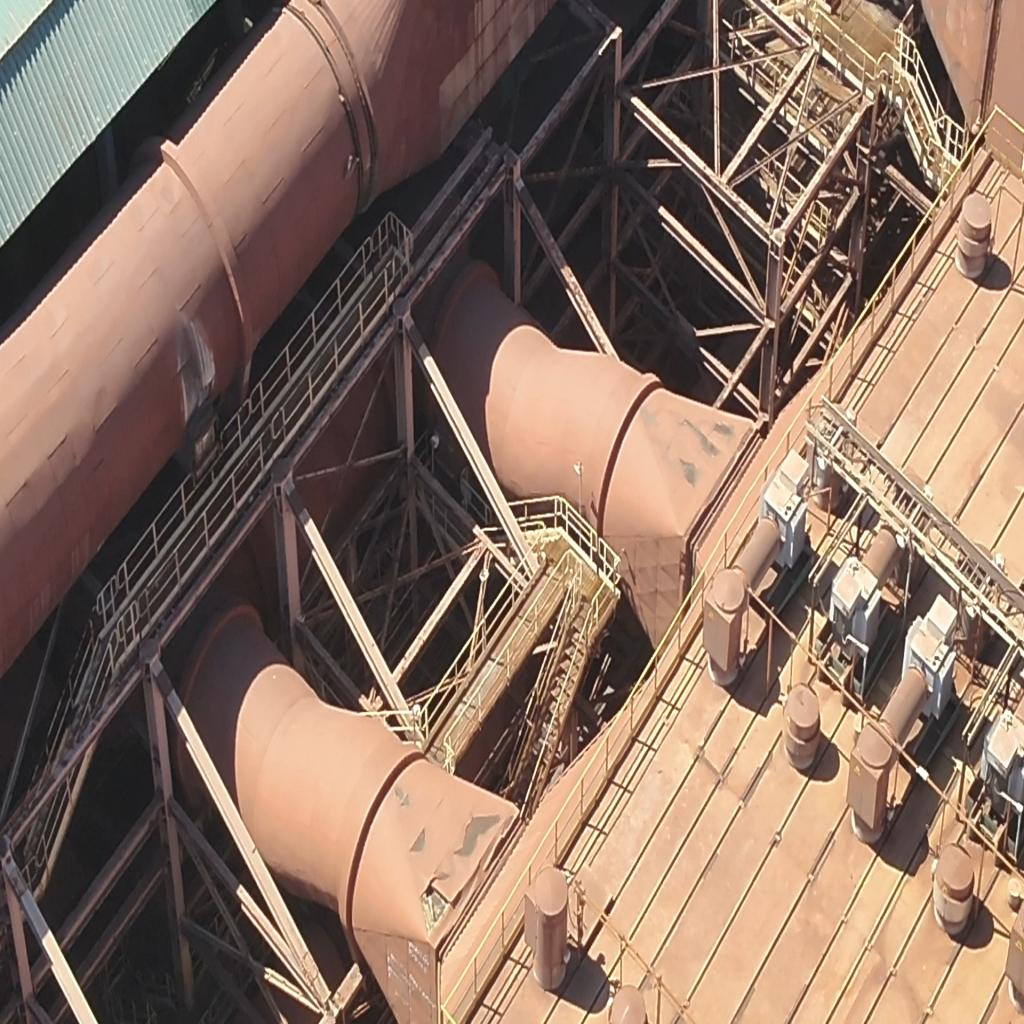Failures: (454, 811, 498, 855), (422, 879, 450, 928), (394, 779, 411, 806), (409, 829, 426, 853)
